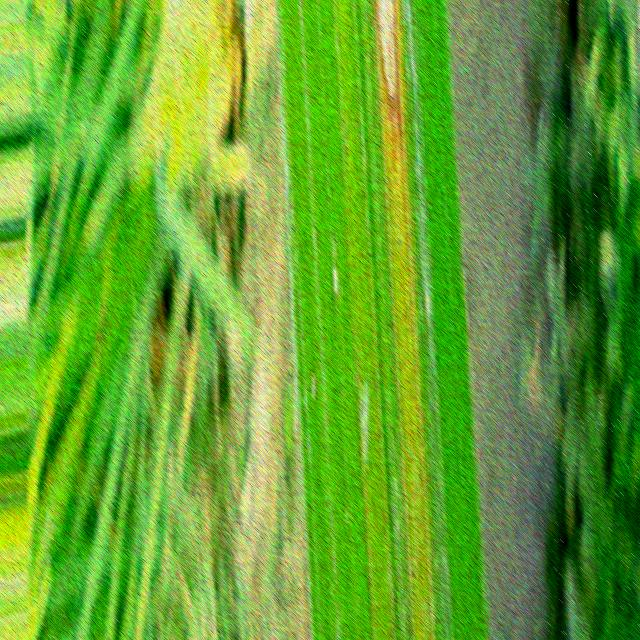LEAF BLAST: (376, 0, 397, 103)
